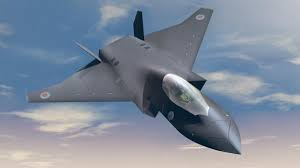fighter: (24, 4, 245, 158)
